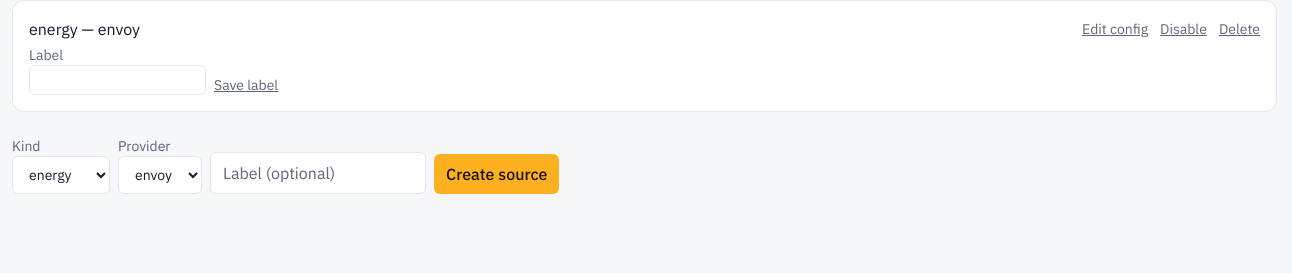
Test: CollectorsTab › shows an error when toggling a source fails, and leaves its state unchanged
Click the button "Disable" at (1184, 29), box [1160,17,1207,41]
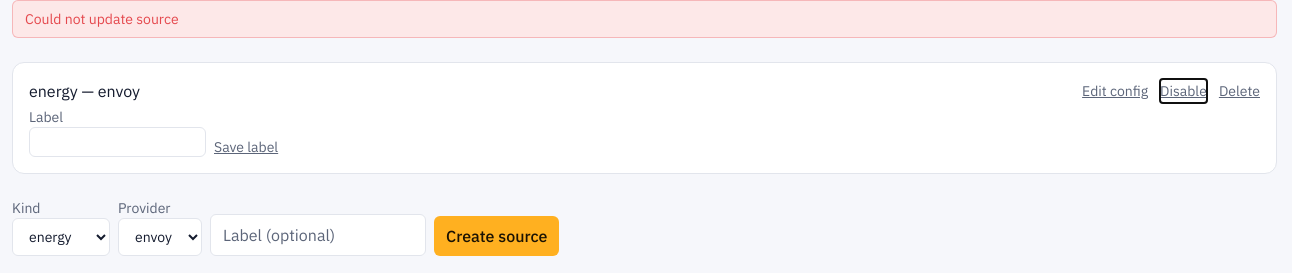
Expected: the button "Disable" is shown, [1160,79,1207,103]
Expected: the message reads "Could not update source", [25,10,179,28]
